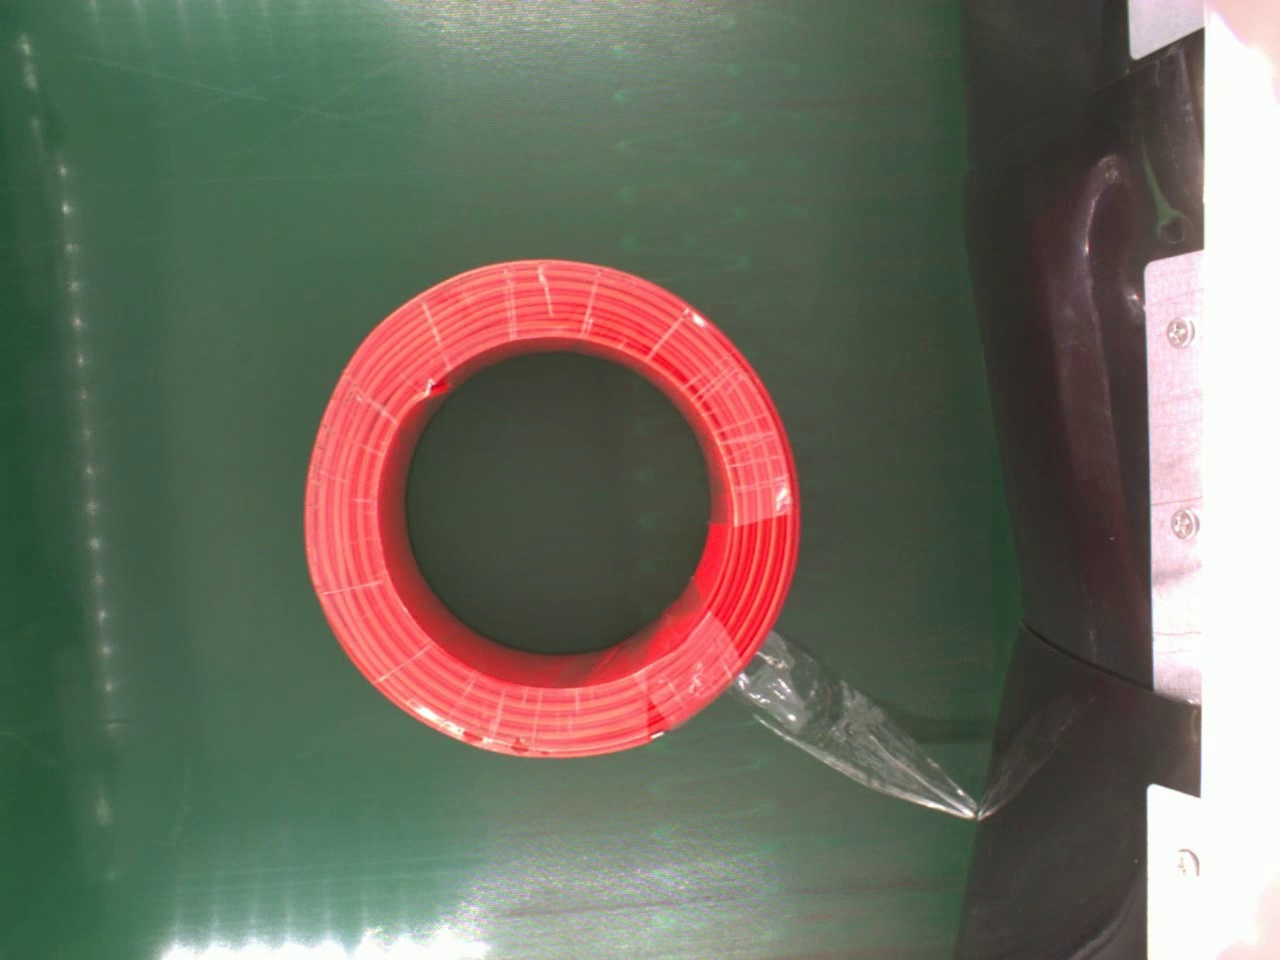red: (299, 255, 802, 762)
